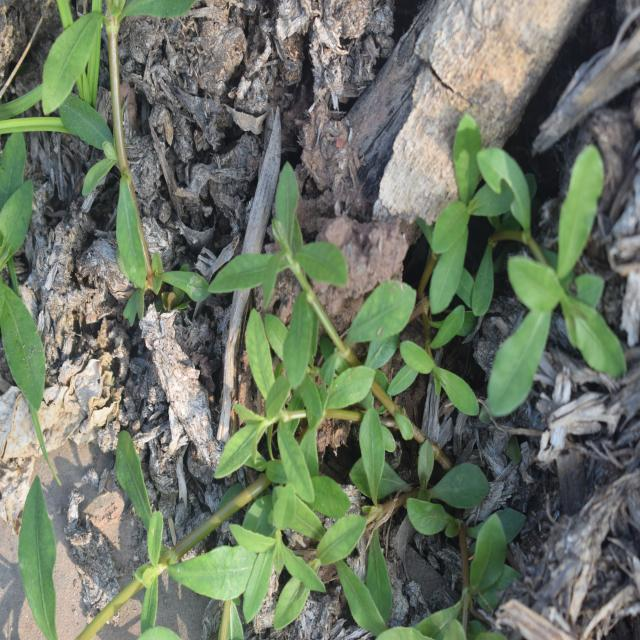Alligatorweed: (200, 193, 393, 470)
